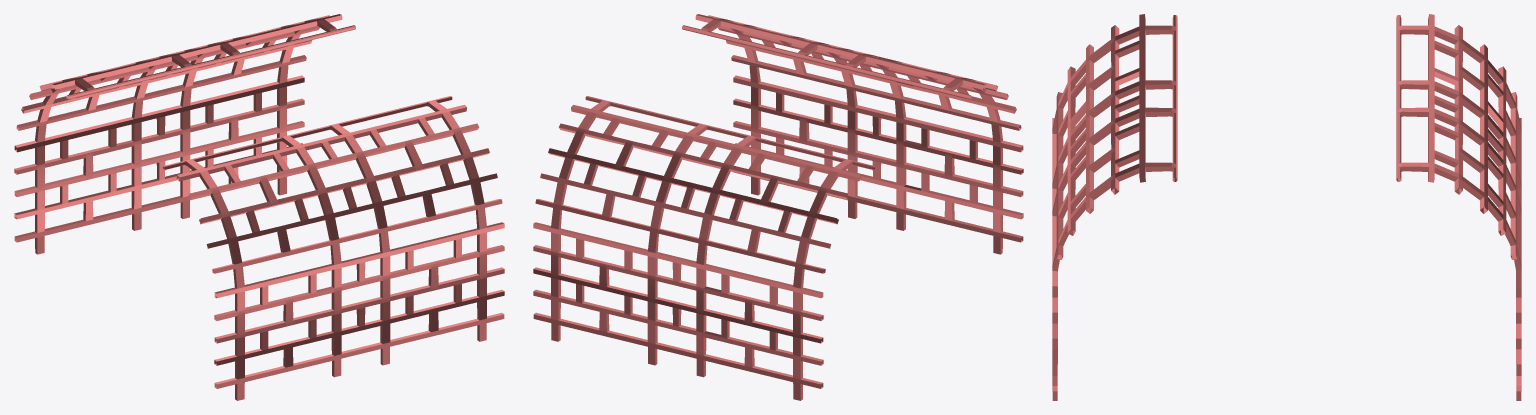
File: Filthy_Casul_Rails.fbx
The picture shows the model from 3 angles, left to right: view 1: azimuth 30°, elevation 25°; view 2: azimuth 150°, elevation 25°; view 3: azimuth 270°, elevation 25°; orthographic projection. The views are drawn at different scales.
Visible parts, largest first — view 1: Filthy_Casul_Rails; view 2: Filthy_Casul_Rails; view 3: Filthy_Casul_Rails.
Part boxes in pixels (x1,y1,x2,y2): Filthy_Casul_Rails: [14, 14, 504, 400]; Filthy_Casul_Rails: [533, 14, 1023, 400]; Filthy_Casul_Rails: [1052, 14, 1521, 400].
Bounding box in the file's own units: 447 × 300 × 545.
